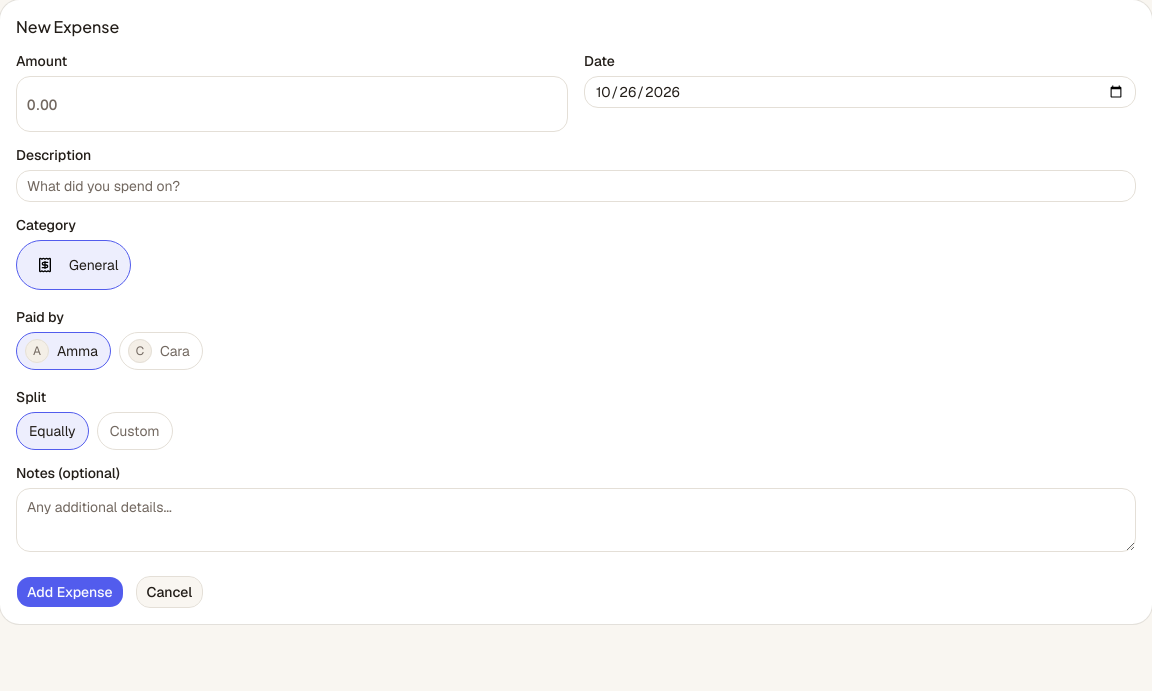
Test: ExpenseForm Split › leaving someone out re-shares the amount among the rest
Step 1. Type "9" into the number field labelled "Amount" → (292, 104), box [16, 76, 568, 132]
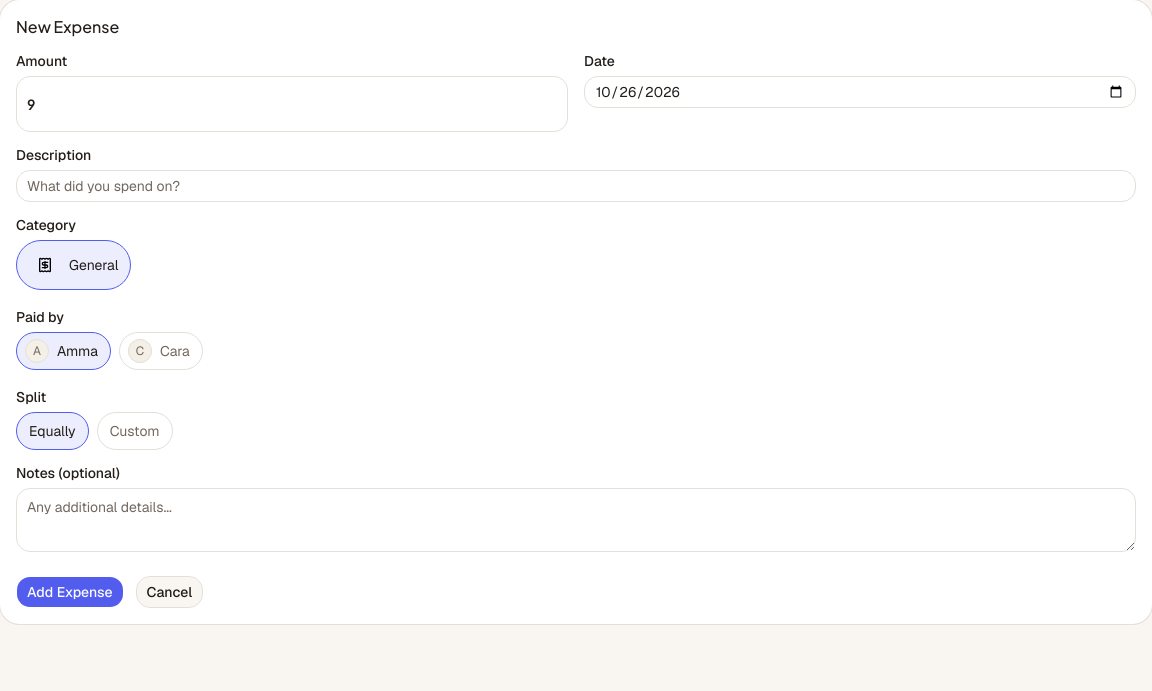
Step 2. Click the button "Custom" → (135, 431), box [97, 412, 172, 450]
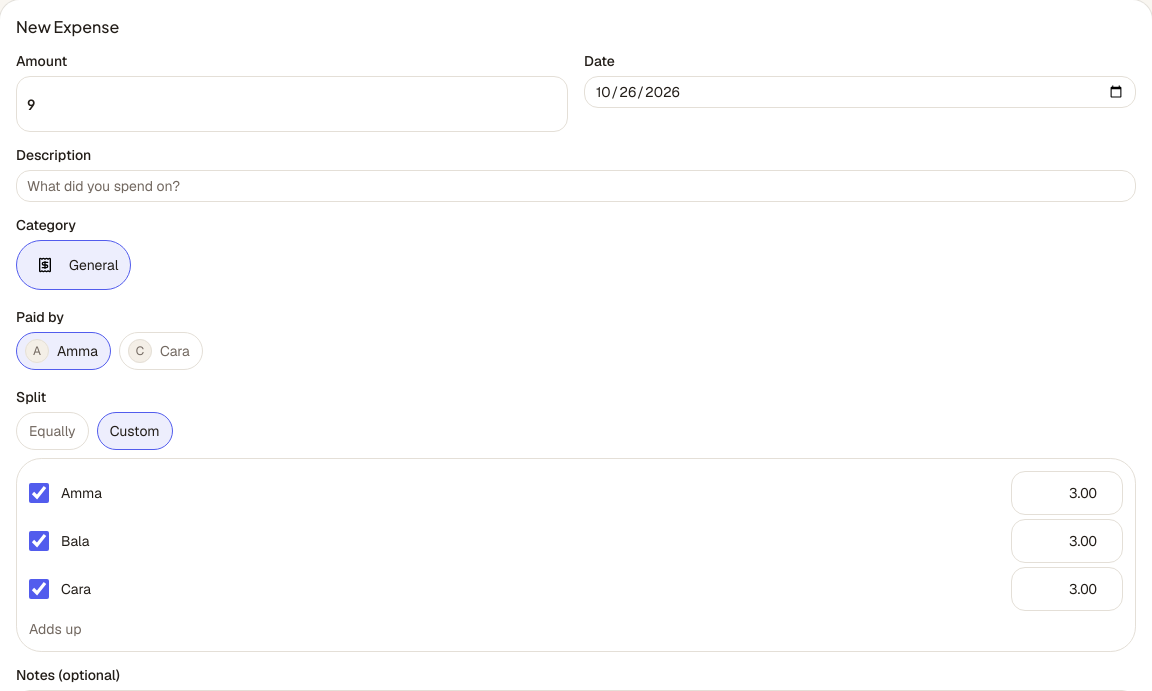
Step 3. Click the checkbox named "Include Bala" → (39, 541), box [29, 531, 49, 551]
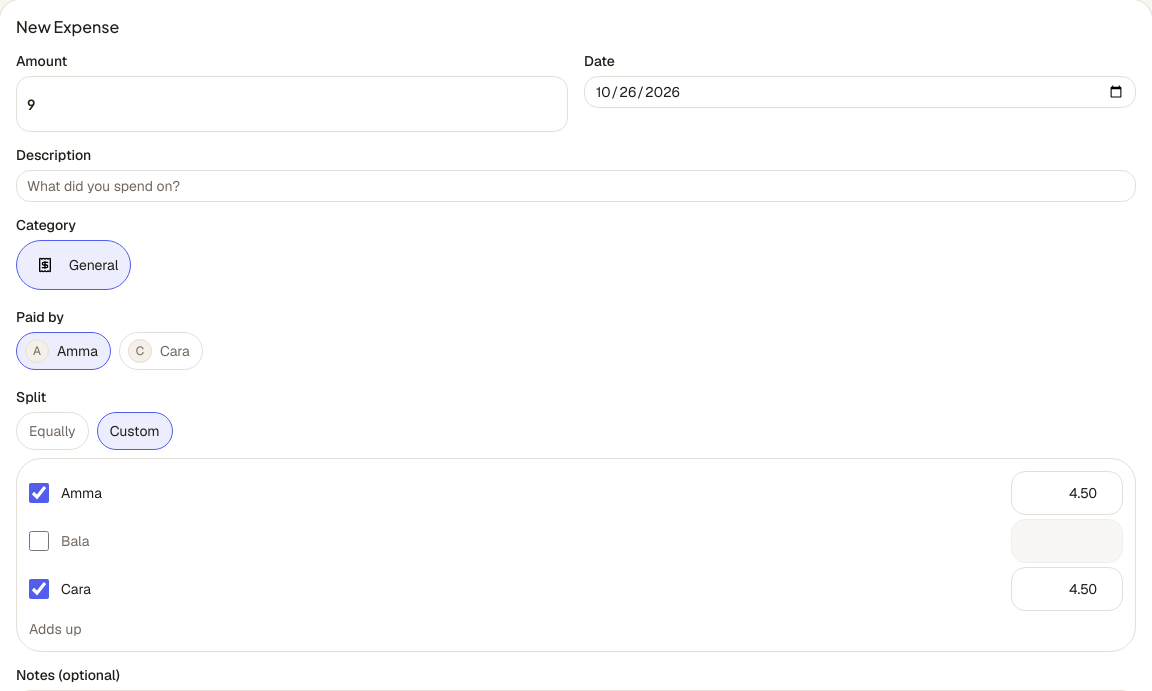
Now the number field named "Amma's share" holds "4.5", box [1011, 471, 1123, 515]
Now the number field named "Cara's share" holds "4.5", box [1011, 567, 1123, 611]
